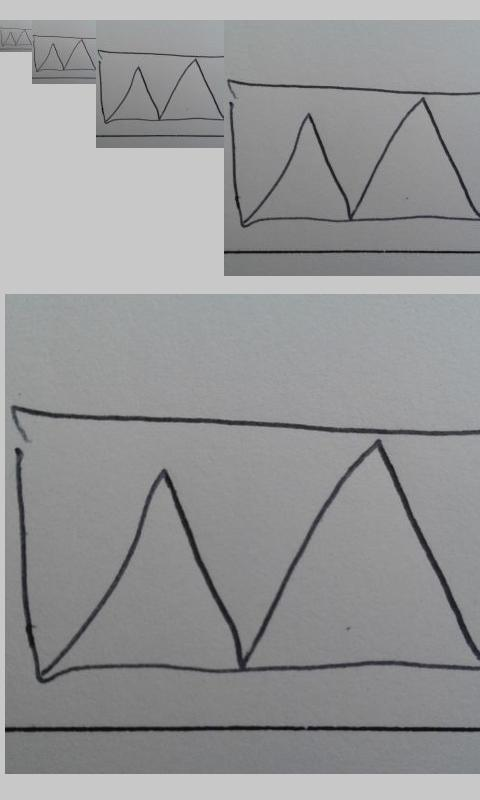image_view: (9, 403, 479, 680), (228, 78, 478, 233), (98, 50, 225, 124), (33, 34, 96, 72), (1, 27, 32, 48)
